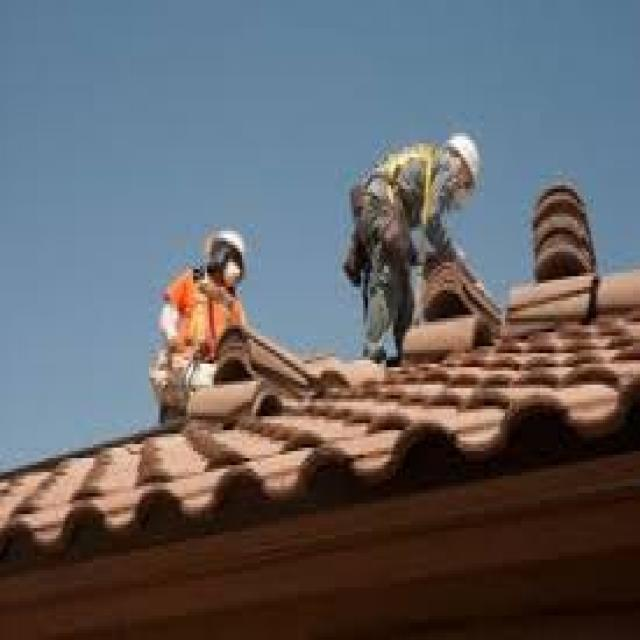Reflective-Jacket: (337, 133, 454, 287), (160, 269, 252, 388)
Safety-Helmet: (198, 213, 256, 287), (438, 123, 491, 200)
